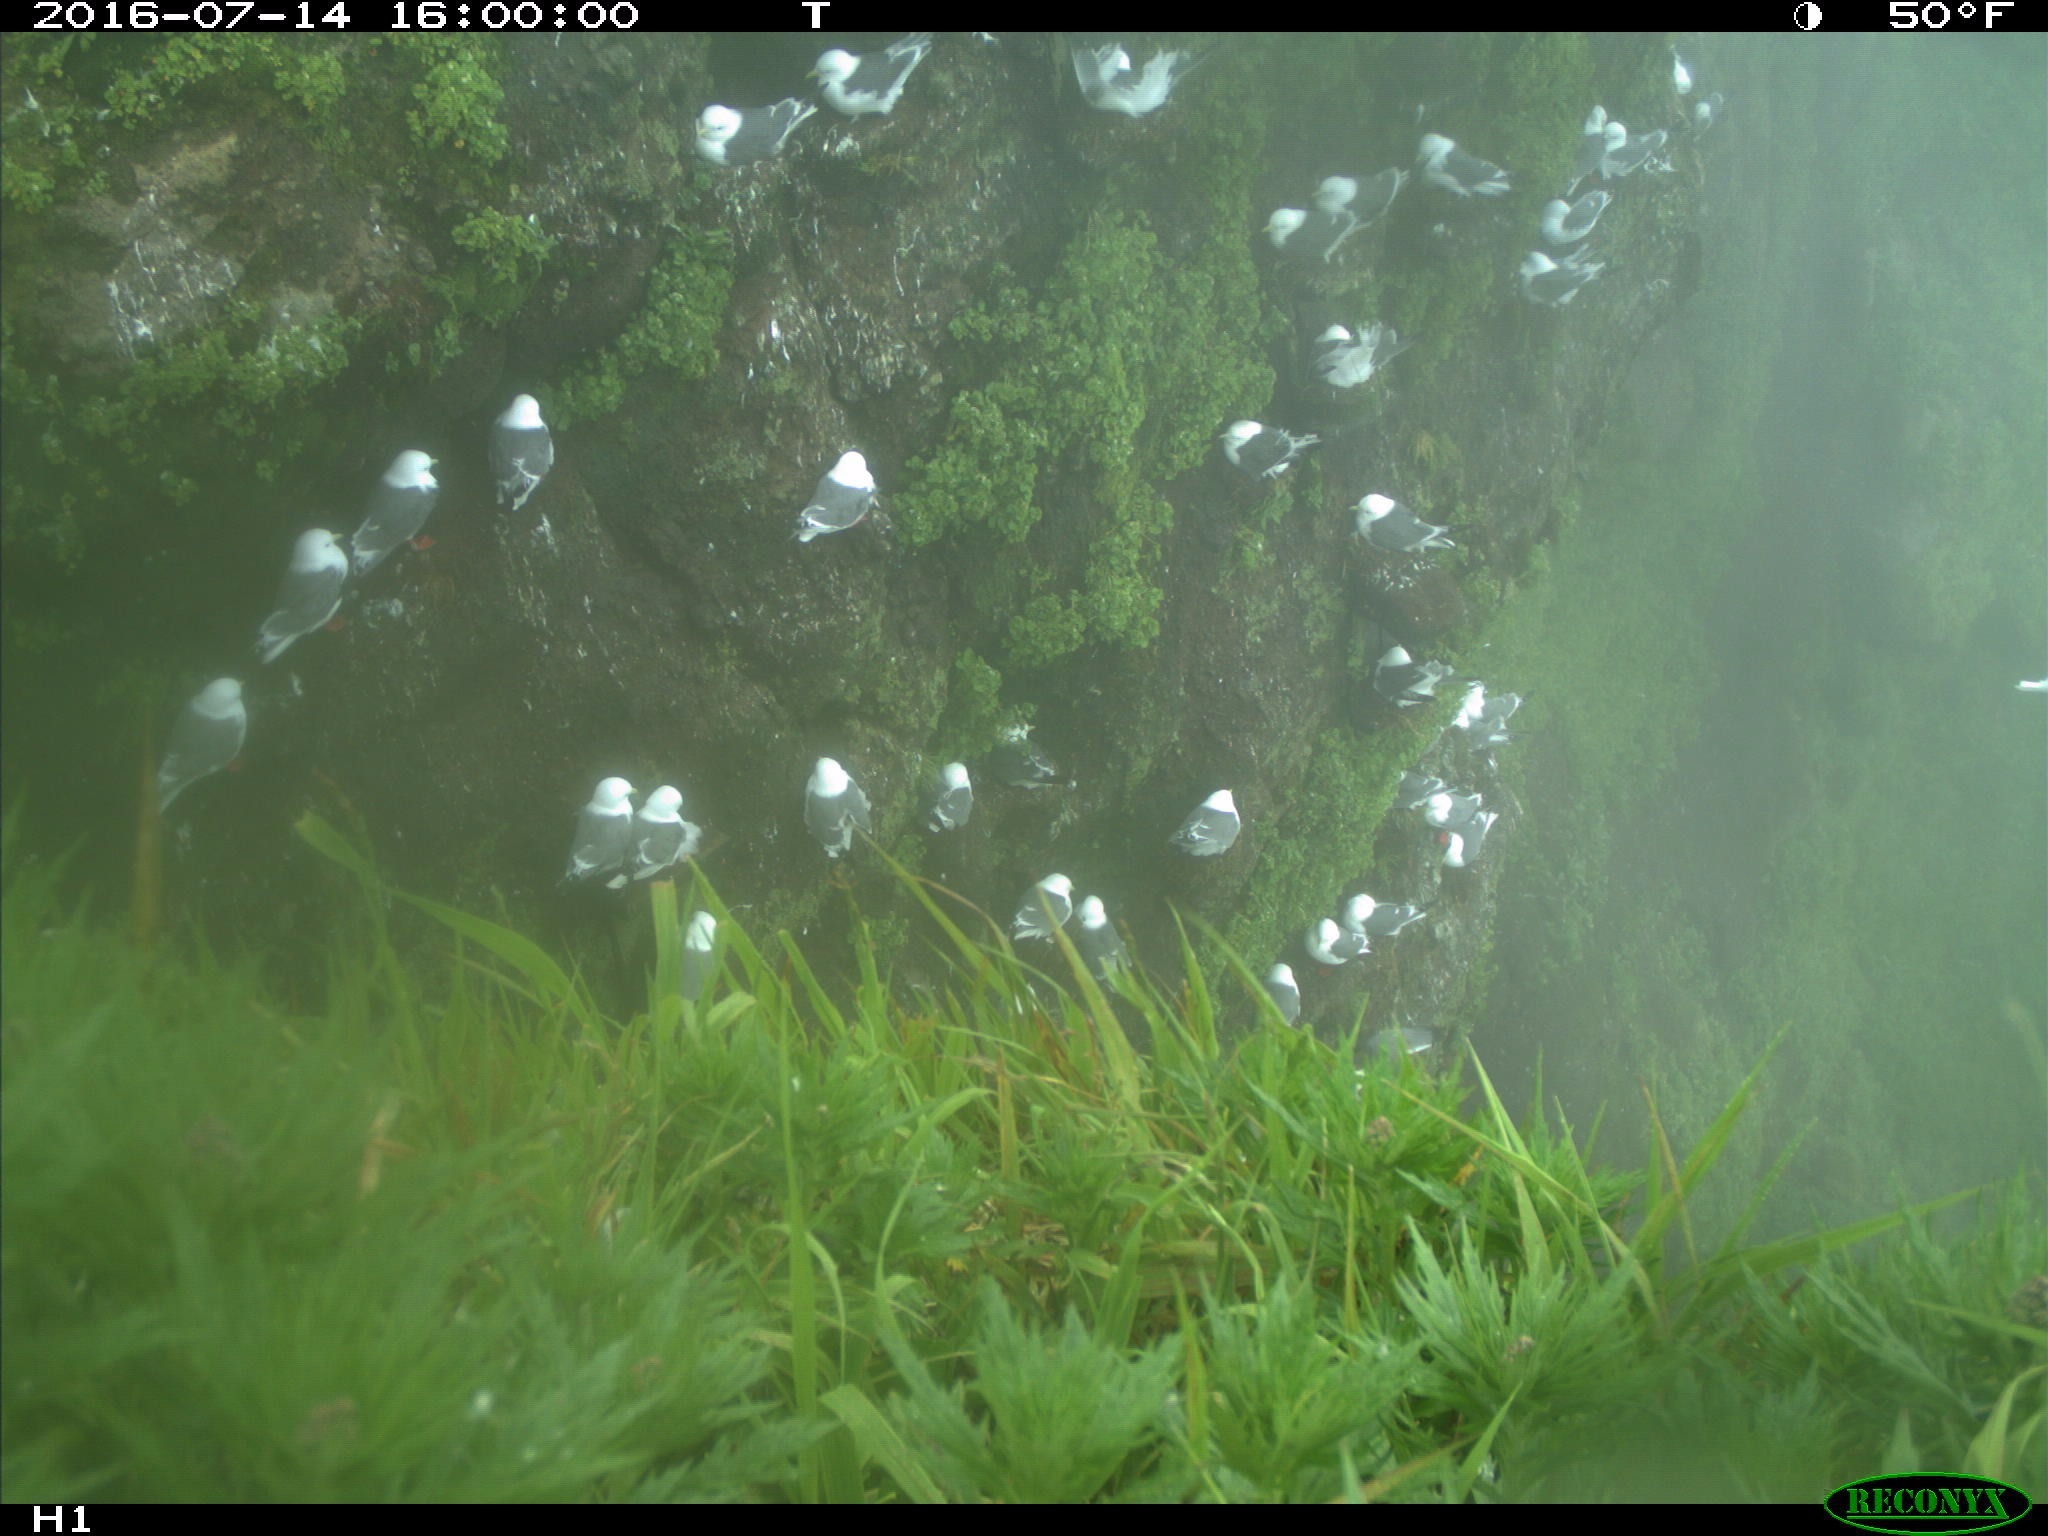Kittiwake: (121, 642, 273, 820), (331, 424, 474, 594), (245, 500, 379, 679), (1039, 40, 1242, 137), (780, 416, 908, 566), (798, 720, 893, 913), (468, 378, 593, 516), (648, 89, 835, 181), (782, 37, 968, 127), (540, 747, 656, 891), (1392, 95, 1535, 208), (1350, 466, 1493, 574), (1168, 763, 1284, 883), (1293, 319, 1442, 408), (613, 765, 716, 889), (1359, 616, 1467, 733), (1250, 192, 1384, 281), (1206, 395, 1334, 487), (1513, 179, 1659, 258), (989, 692, 1082, 808), (1438, 666, 1567, 750), (1659, 37, 1759, 145), (1596, 106, 1709, 194), (1292, 150, 1429, 221), (1508, 237, 1613, 329), (998, 862, 1082, 976), (1238, 933, 1316, 1042), (1359, 755, 1508, 812), (1292, 913, 1405, 983), (1074, 886, 1143, 995), (679, 891, 740, 1013), (1416, 813, 1517, 886), (919, 721, 972, 847), (1334, 874, 1442, 936), (1400, 786, 1517, 833), (1563, 86, 1613, 186)
